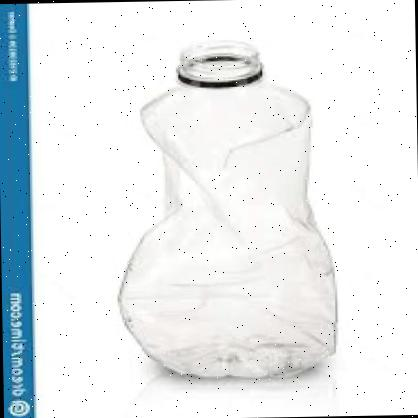bottle: (90, 27, 360, 388)
